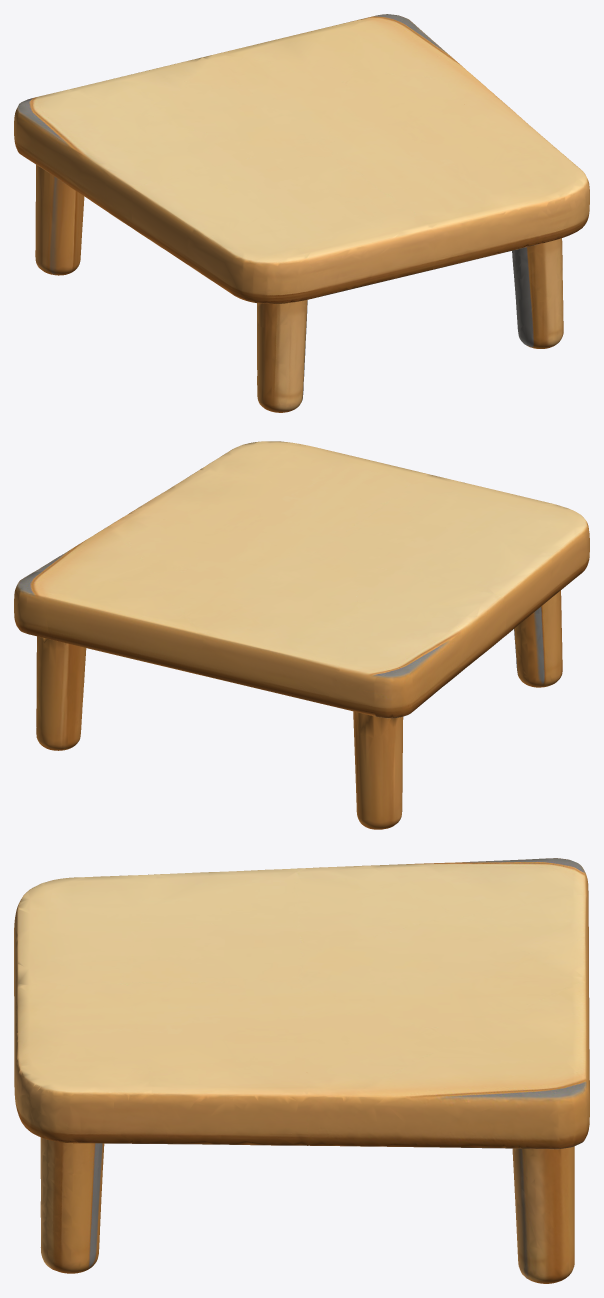
Rendered from table.glb.
3 views of the same model, one above another, from view 1: azimuth 30°, elevation 25°; view 2: azimuth 150°, elevation 25°; view 3: azimuth 270°, elevation 25° (orthographic). The views are drawn at different scales.
Parts seen in each view (by area): view 1: tripo_node_277546c9-63cd-4696-94aa-5975522c14ef; view 2: tripo_node_277546c9-63cd-4696-94aa-5975522c14ef; view 3: tripo_node_277546c9-63cd-4696-94aa-5975522c14ef.
Boxes of the visible parts, bbox=[...] form: tripo_node_277546c9-63cd-4696-94aa-5975522c14ef: bbox=[14, 14, 589, 412]; tripo_node_277546c9-63cd-4696-94aa-5975522c14ef: bbox=[14, 441, 589, 829]; tripo_node_277546c9-63cd-4696-94aa-5975522c14ef: bbox=[14, 858, 589, 1283].
Size of the model in its own units: 0.9892 by 0.4106 by 0.9998.
1 material, 1 textured.
